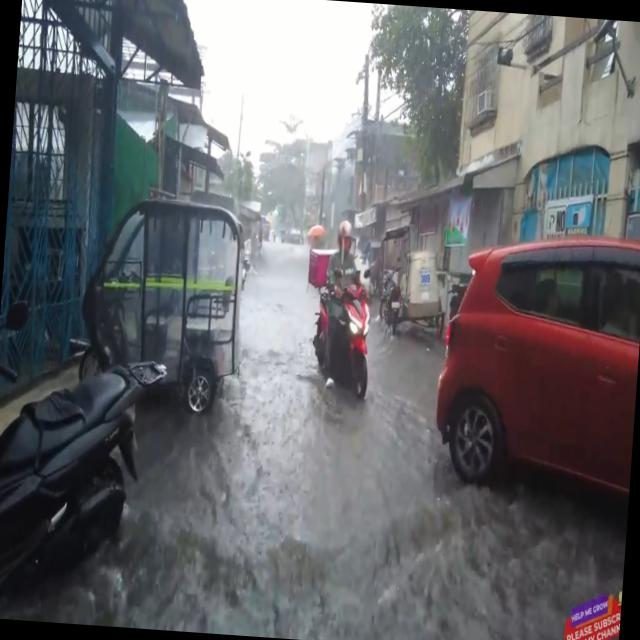half: (335, 219, 353, 254)
